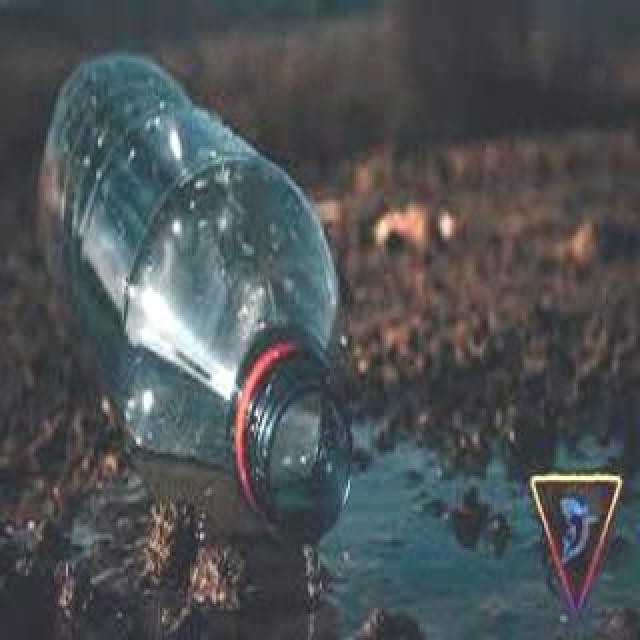Pet_Bottle: (26, 39, 364, 547)
